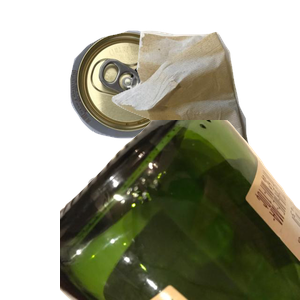glass: (60, 120, 300, 300)
metal: (68, 28, 237, 159)
plastic: (85, 163, 235, 300)
trash: (109, 28, 300, 208)
